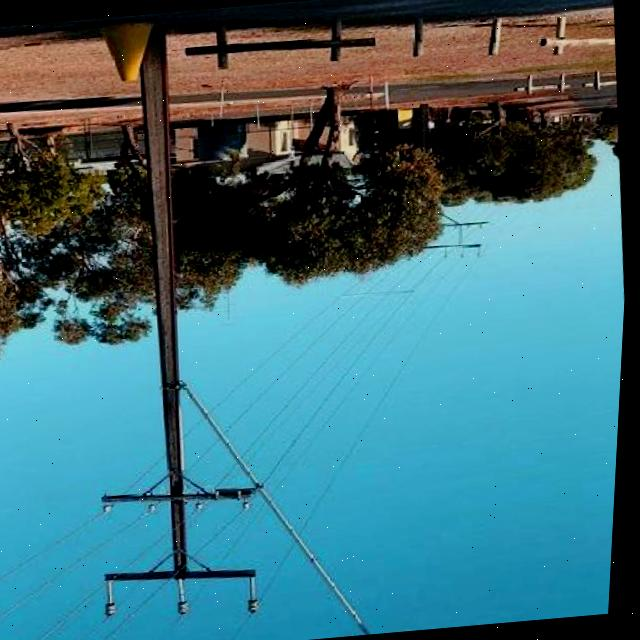poles: (51, 56, 303, 636)
wires: (195, 245, 484, 593), (1, 508, 164, 640)
